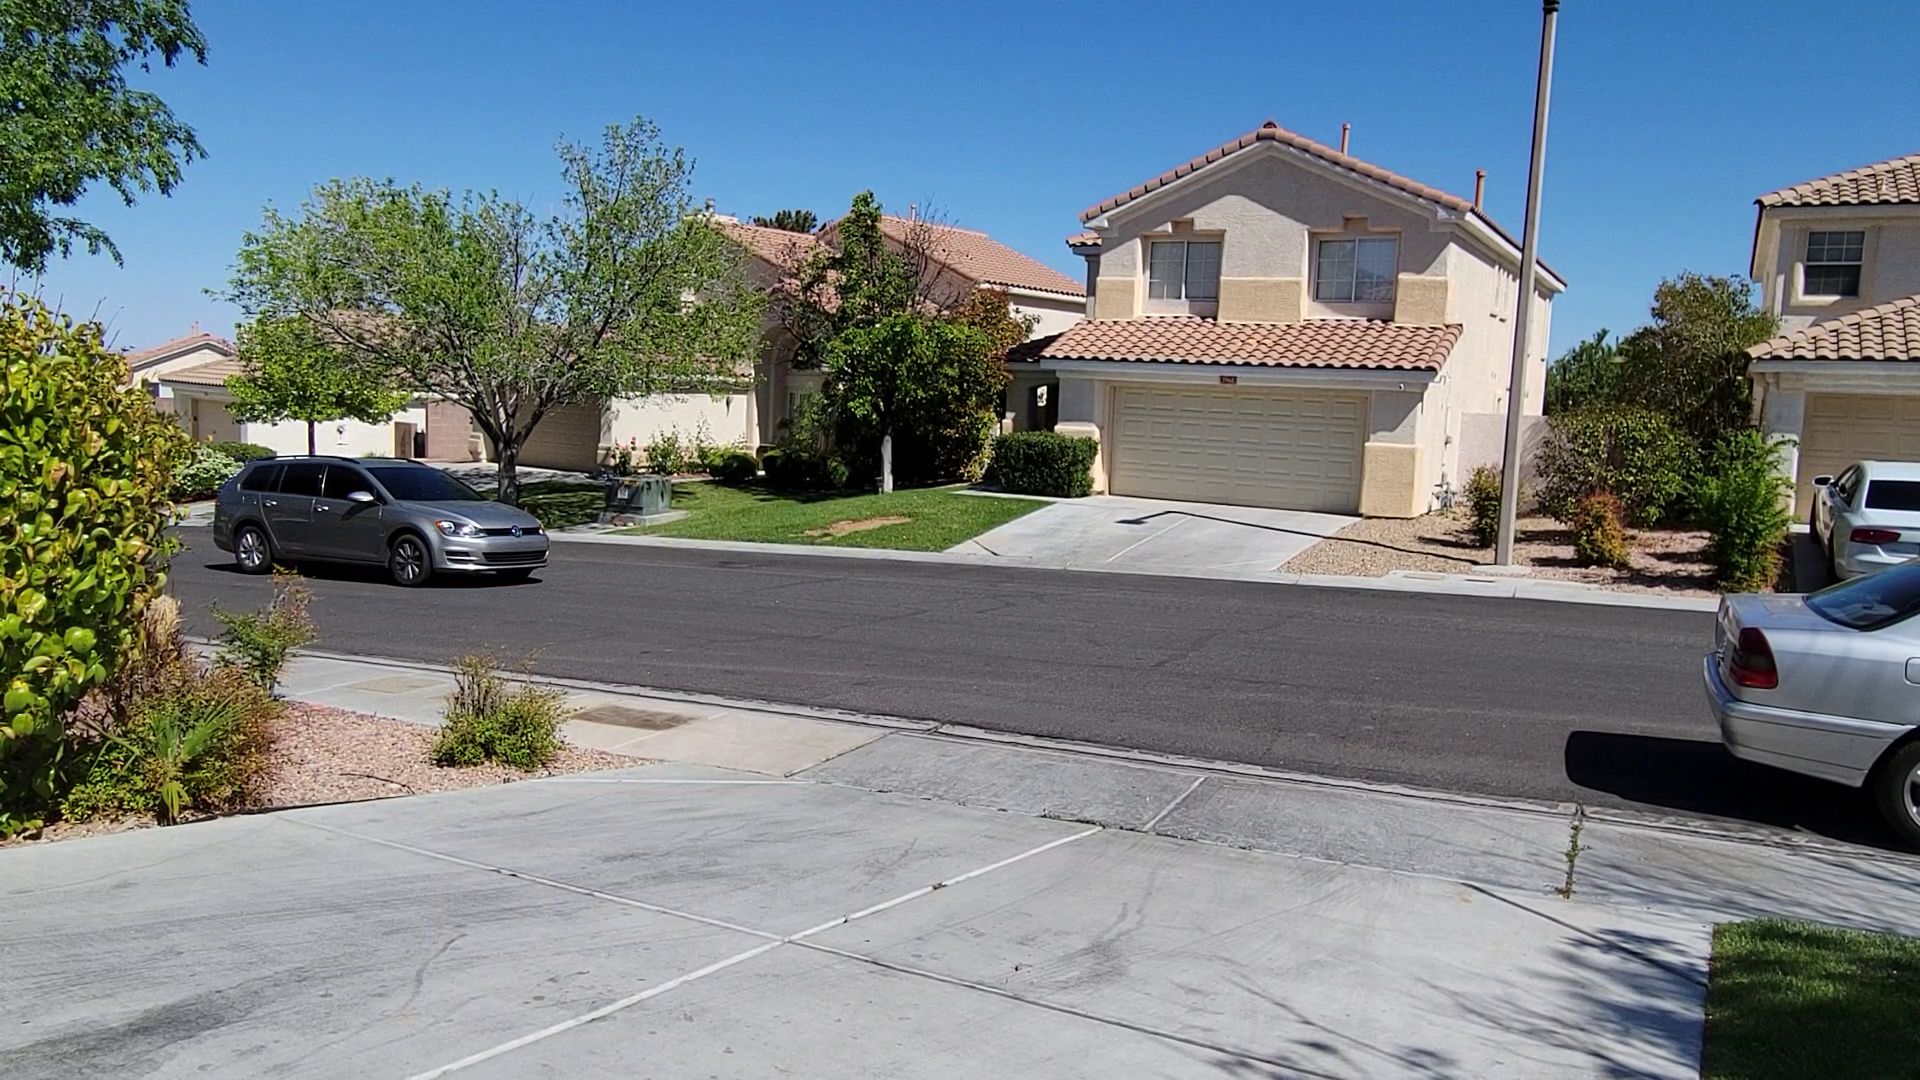car: (211, 454, 553, 589)
